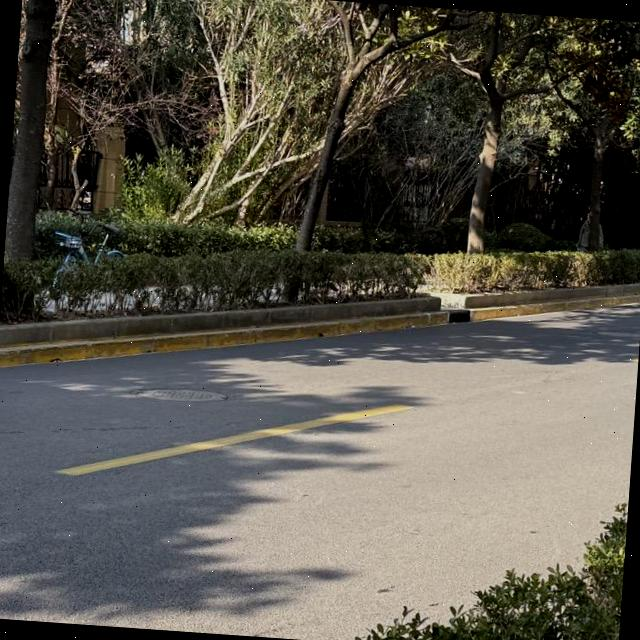curb: (0, 310, 449, 365), (0, 295, 442, 347), (471, 291, 640, 320), (464, 284, 640, 308)
